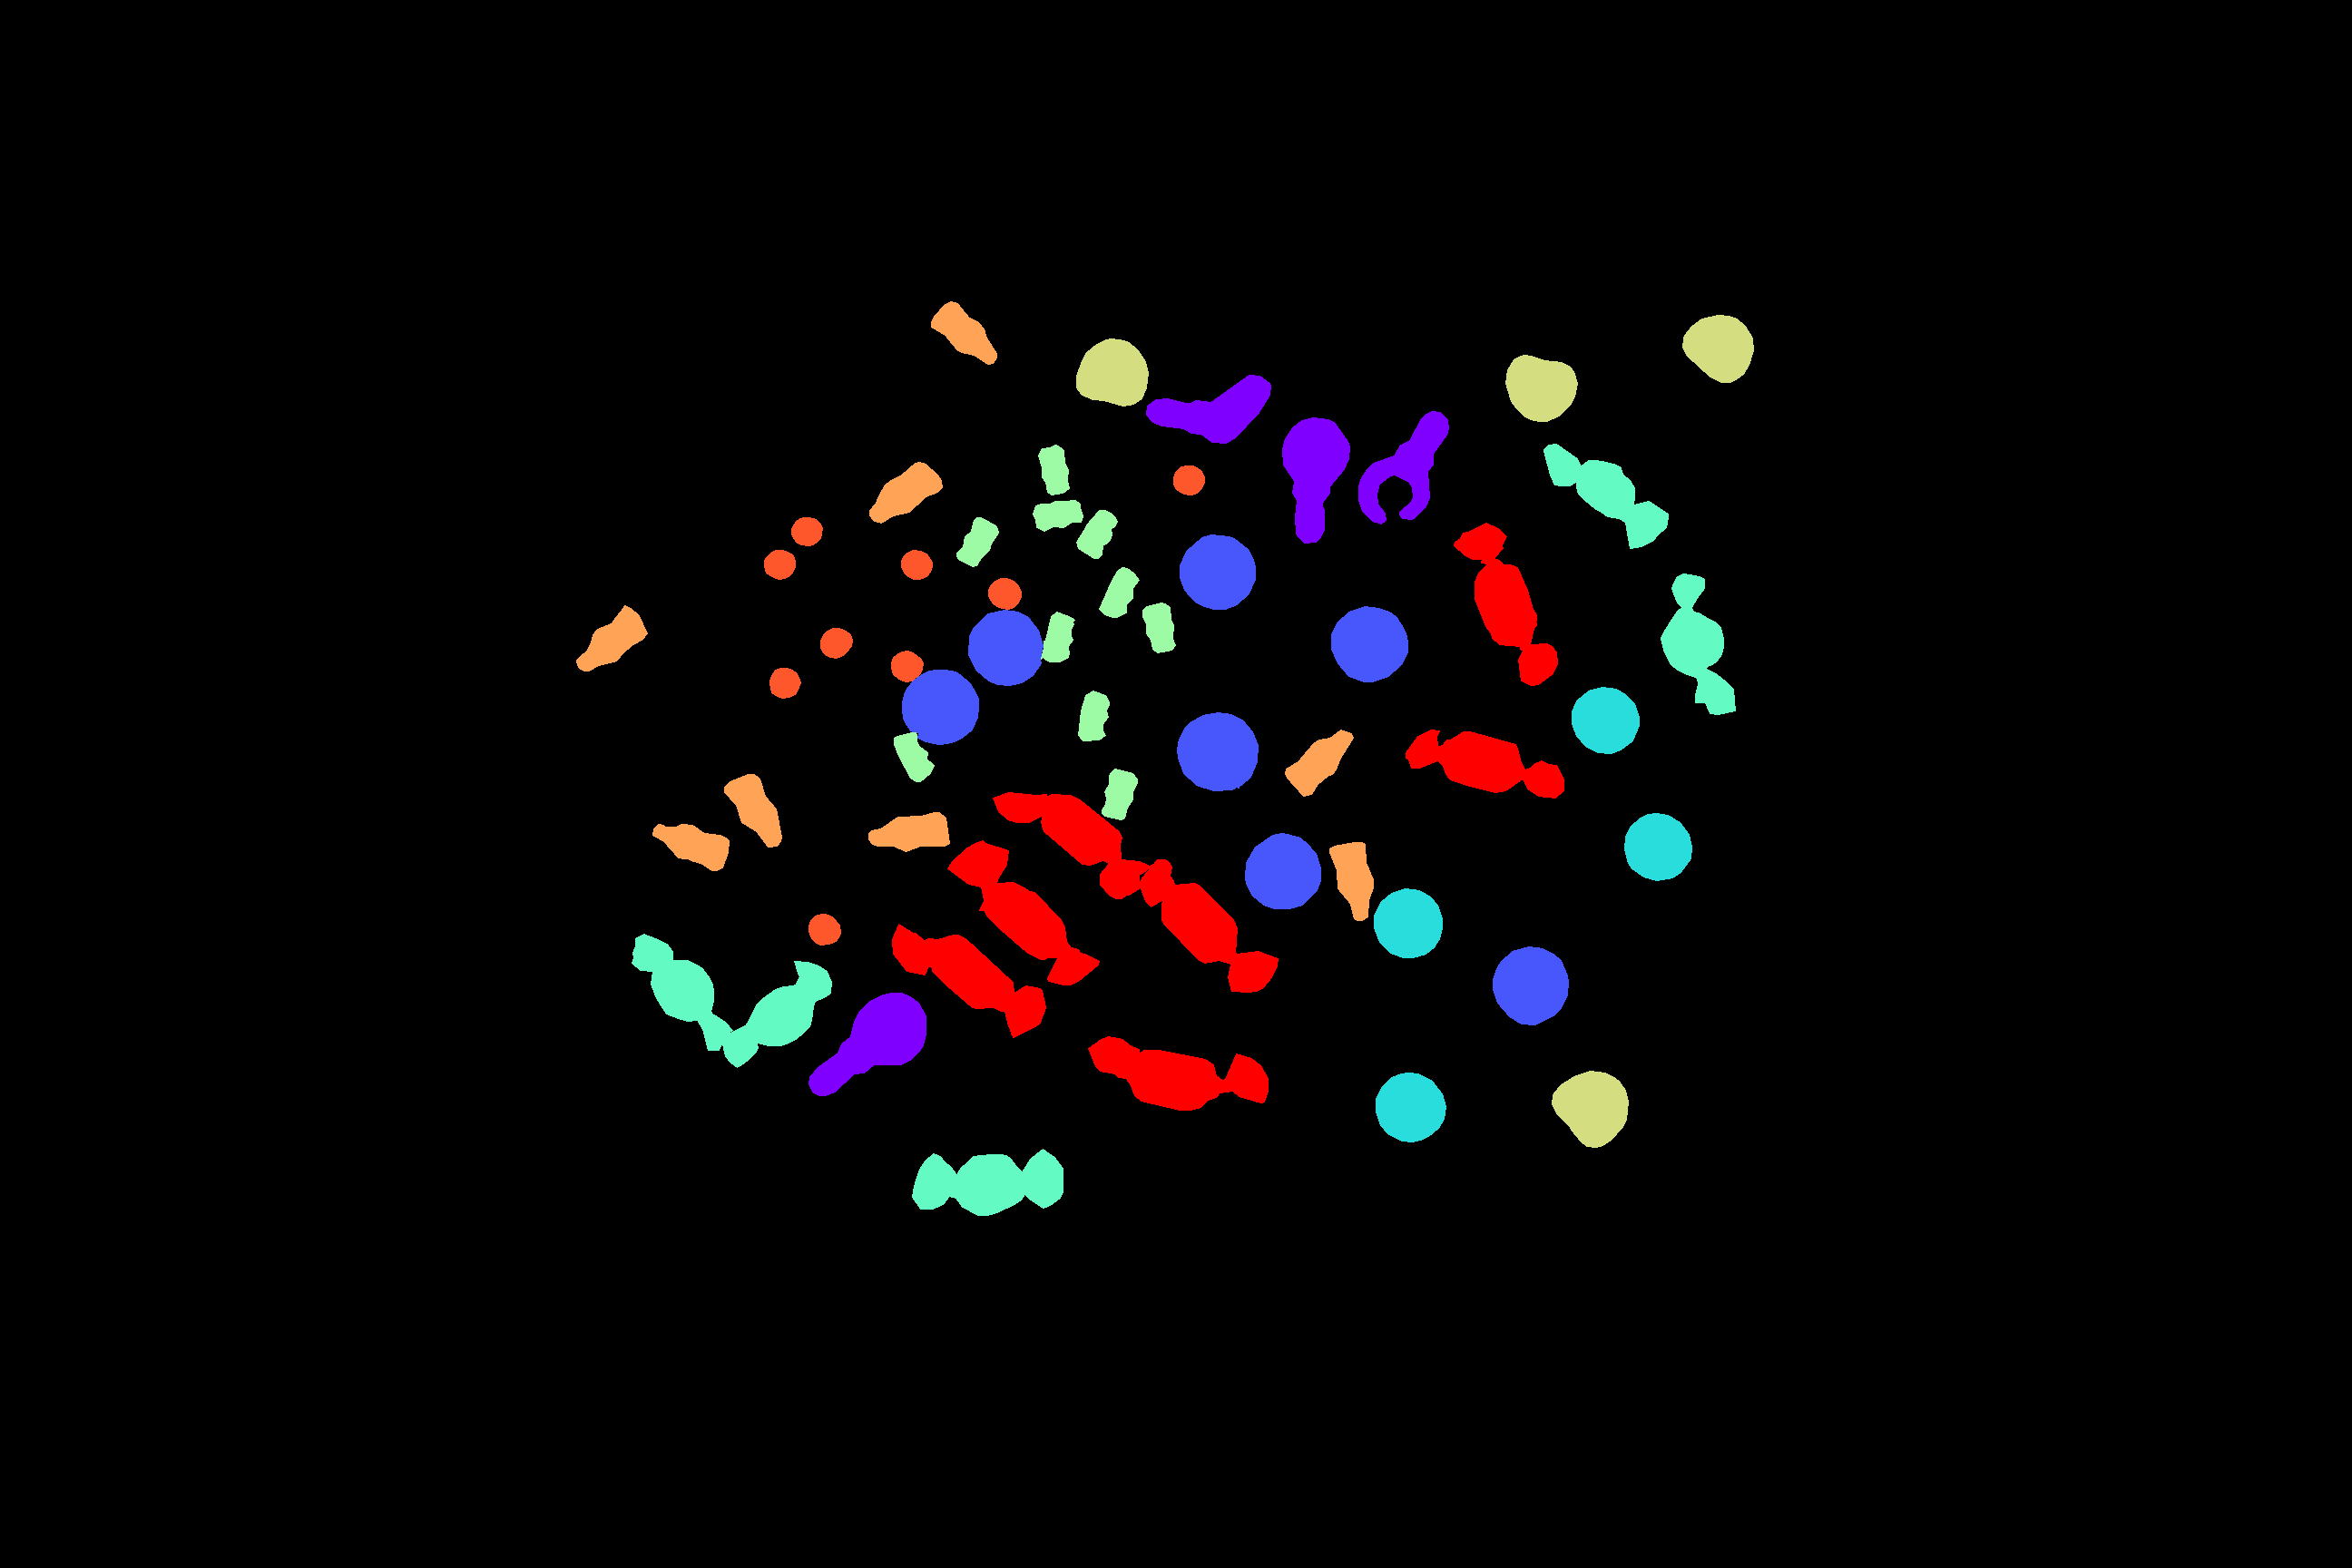apricot_jellies: (1552, 1071, 1628, 1146), (1076, 338, 1148, 406), (1505, 355, 1577, 422), (1682, 315, 1754, 382)
bear: (1099, 567, 1139, 618), (957, 518, 997, 567), (1076, 509, 1117, 558), (894, 731, 935, 780), (1101, 768, 1138, 819), (1041, 611, 1074, 661), (1143, 602, 1174, 653), (1038, 445, 1069, 495), (1078, 691, 1109, 740), (1032, 500, 1083, 530)
coin_candy: (1178, 712, 1258, 791), (1493, 947, 1568, 1024), (1179, 534, 1255, 609), (968, 609, 1043, 684), (1244, 833, 1319, 908), (1332, 606, 1407, 681), (901, 670, 978, 744)
cola bottle candies: (576, 606, 647, 670), (1285, 730, 1353, 796), (870, 462, 942, 523), (724, 773, 780, 847), (931, 301, 996, 364), (1330, 842, 1374, 920), (653, 824, 728, 870), (868, 812, 948, 851)
dummies: (808, 992, 926, 1095), (1358, 411, 1449, 523), (1146, 374, 1270, 443), (1283, 418, 1349, 542)
riesen: (947, 840, 1099, 985), (1139, 859, 1277, 992), (892, 924, 1045, 1038), (992, 793, 1153, 898), (1454, 523, 1558, 684), (1089, 1036, 1267, 1109), (1405, 730, 1563, 798)
skittles: (989, 577, 1020, 609), (808, 914, 840, 945), (821, 628, 852, 658), (1172, 465, 1204, 495), (901, 549, 933, 579), (891, 651, 922, 681), (765, 549, 794, 579), (770, 669, 800, 698), (791, 518, 822, 546)
tofifee: (1375, 1073, 1445, 1141), (1374, 889, 1442, 957), (1624, 814, 1692, 880), (1571, 688, 1638, 753)
vollmilch_brocken: (1543, 445, 1668, 548), (723, 961, 831, 1068), (632, 935, 731, 1050), (1661, 574, 1734, 714), (912, 1148, 1062, 1215)
